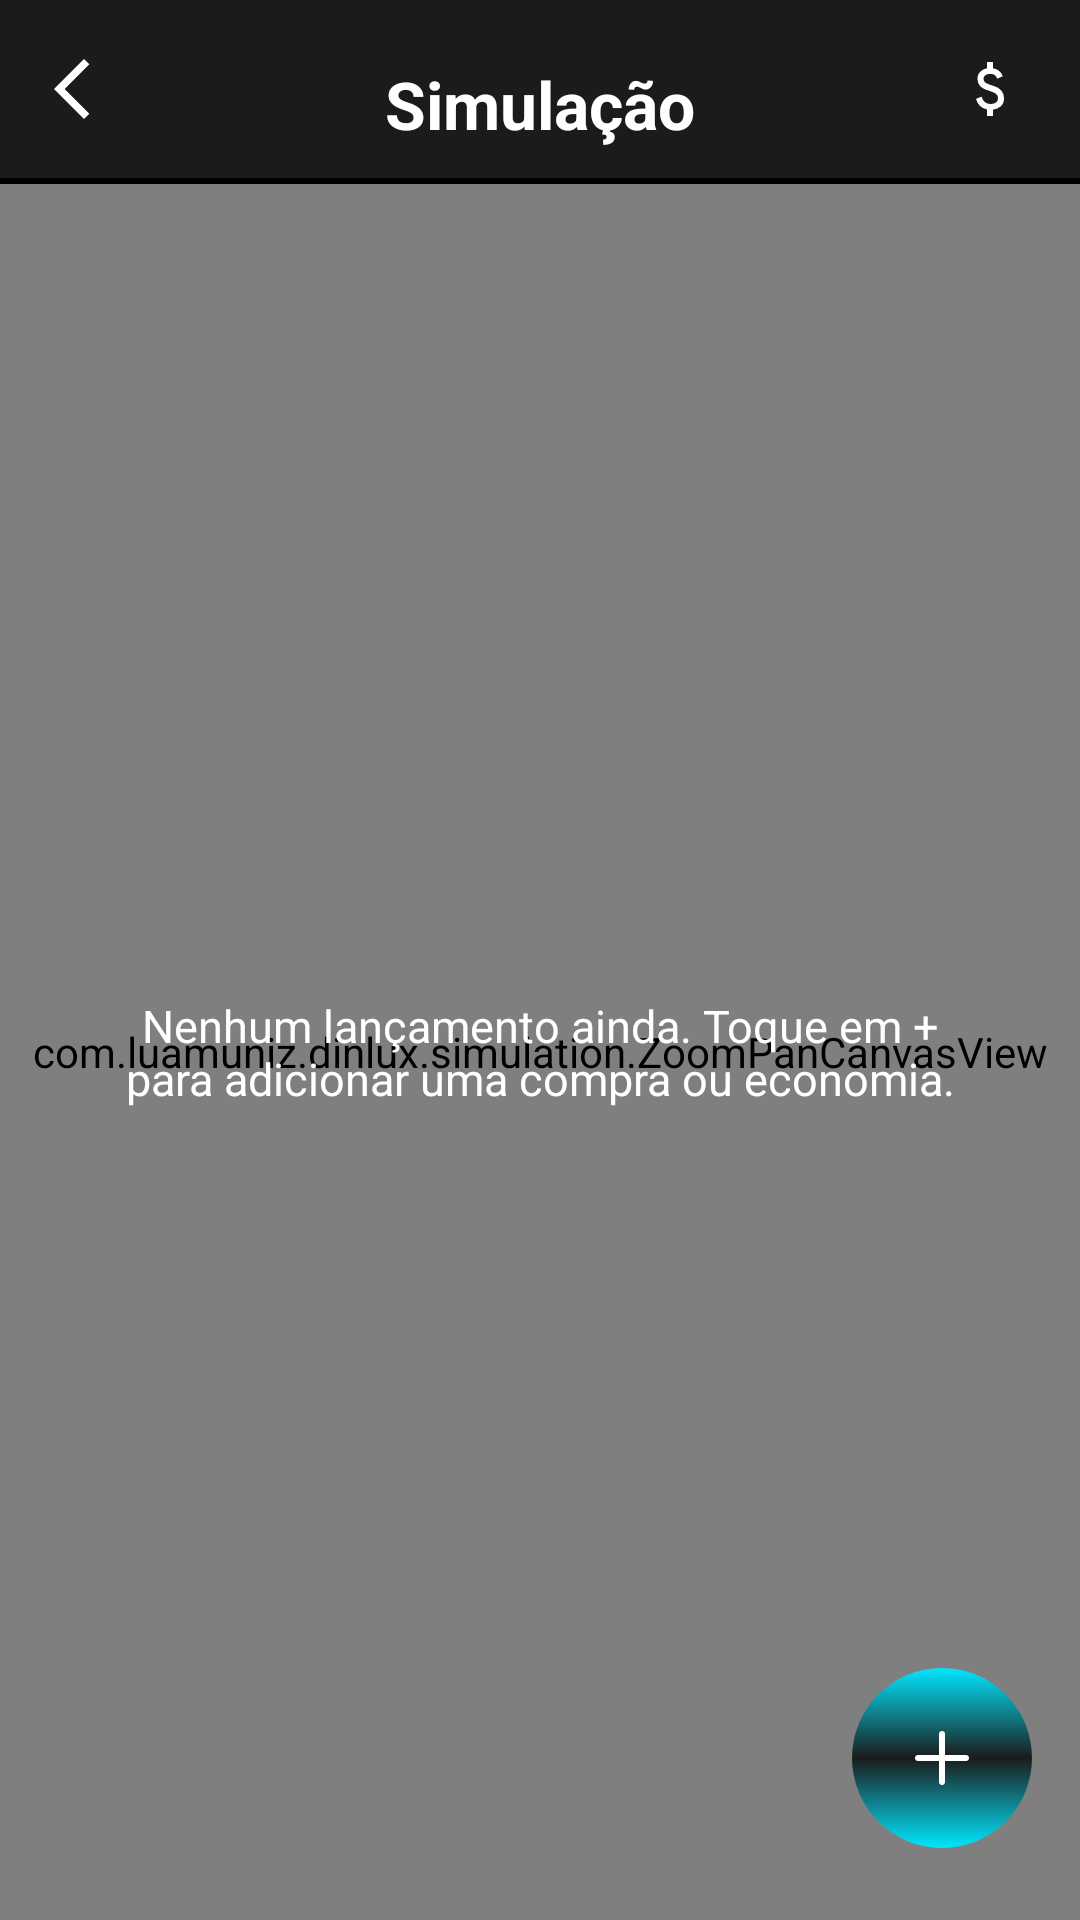

Named icons in this screenshot (1080 x 1920) and their centers, (x,y):
Criar novo lançamento: (942,1758)
to back: (71,89)
